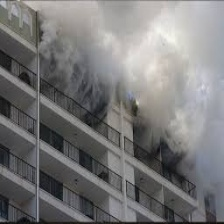smoke: (47, 7, 194, 116)
